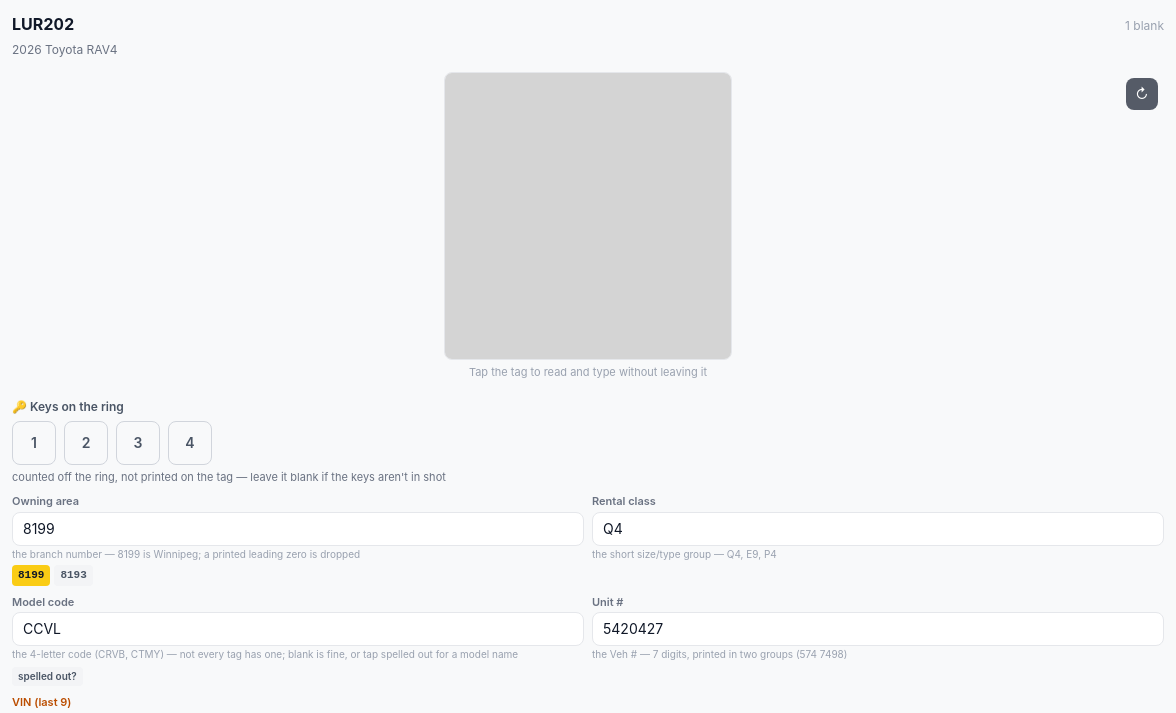
Test case: KeytagAuditCard — the owning presets › ⭐ one tap fills the owning area
Click the button titled "Calgary (8193)".
click(74, 576)  # box [54,565,93,586]
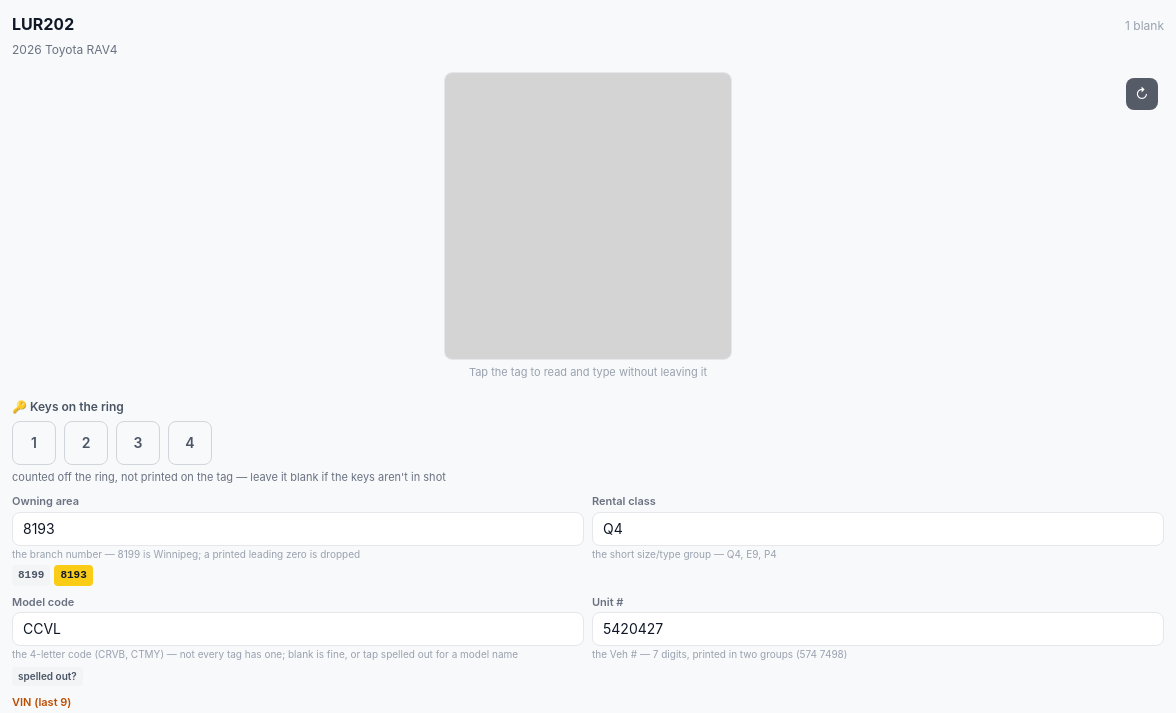
Expected: the field labelled "Owning area" holds "8193", [12,512,584,546]
